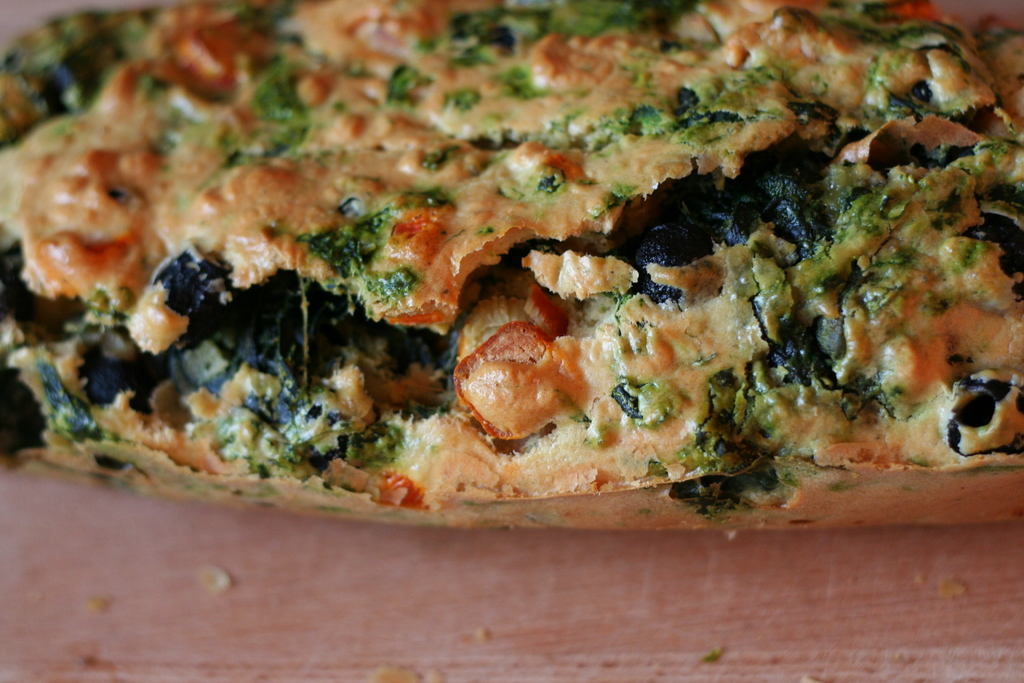pizza: (0, 0, 1023, 534)
